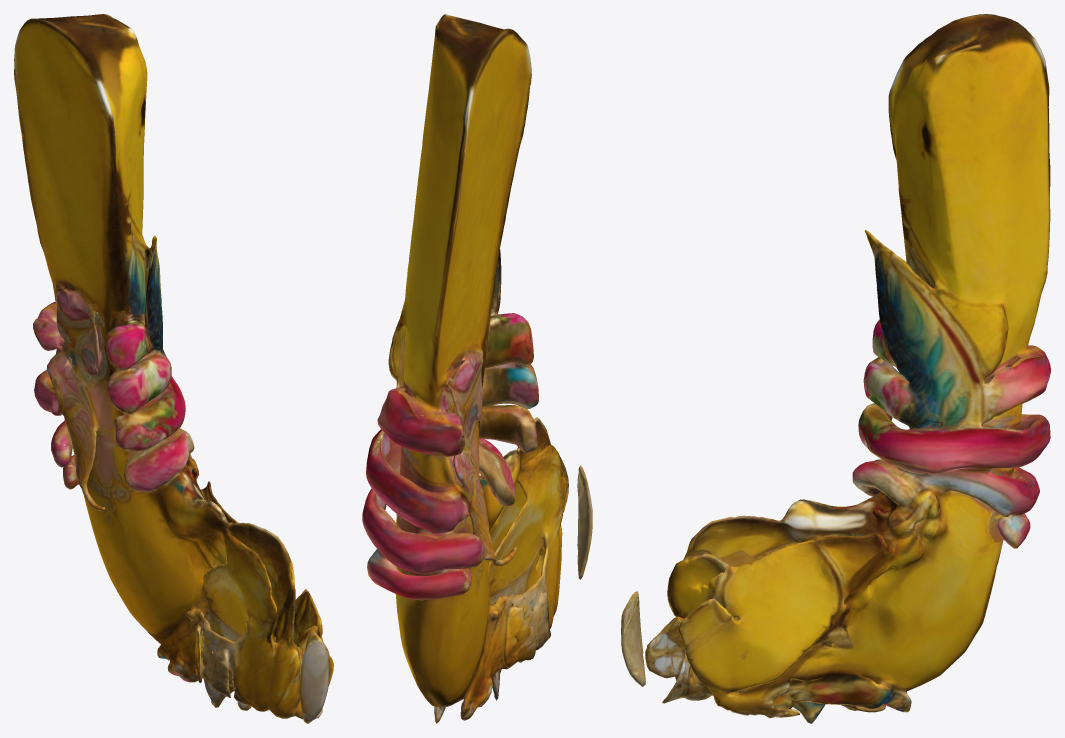
File: shadowPuppetHand.glb
The picture shows the model from 3 angles, left to right: view 1: azimuth 30°, elevation 25°; view 2: azimuth 150°, elevation 25°; view 3: azimuth 270°, elevation 25°; orthographic projection. The views are drawn at different scales.
Bounding box in the file's own units: 0.4327 × 2.01 × 1.17.
Materials: 1 (1 with a texture image).
